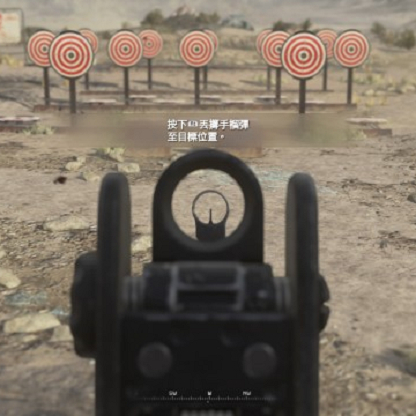target: (48, 30, 94, 80), (281, 31, 326, 80), (107, 28, 144, 68), (332, 29, 370, 67), (179, 29, 214, 68)
